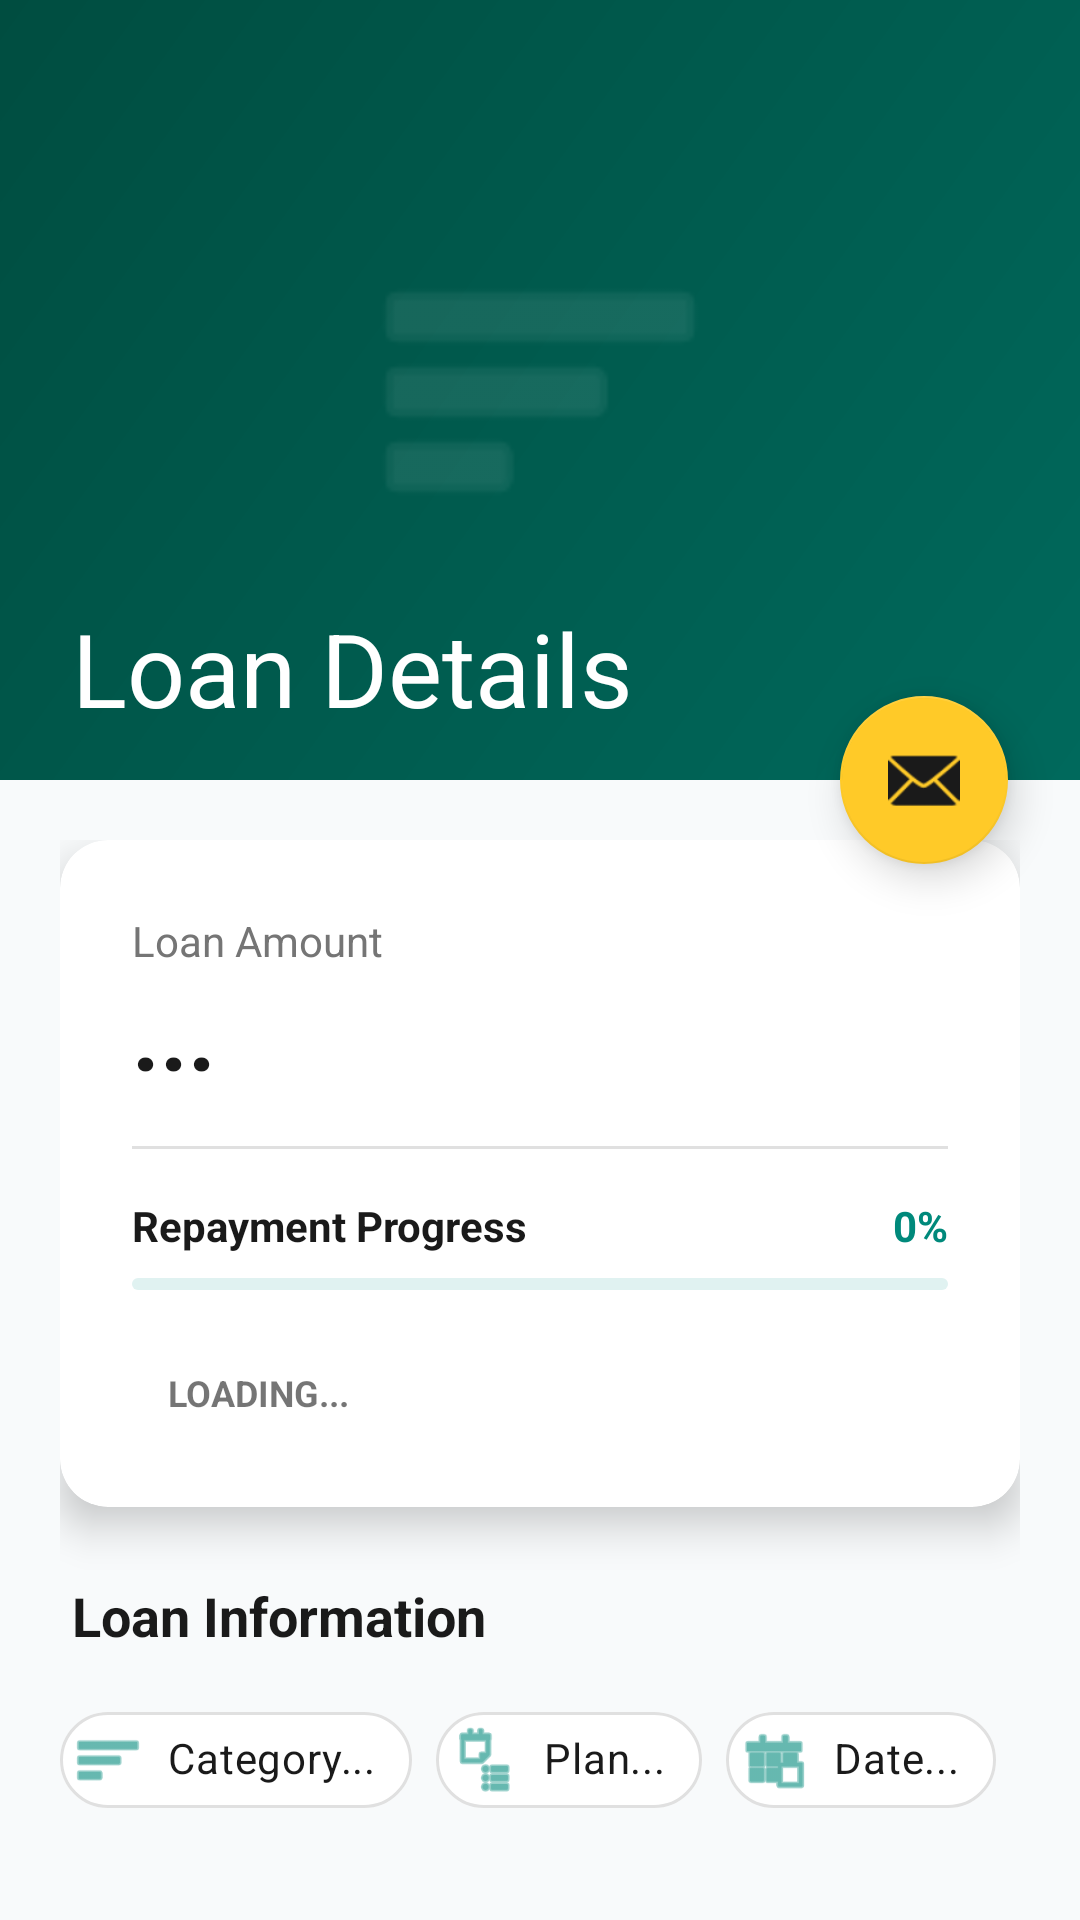

Screen size 1080 x 1920. Icon name, then its center in pixels as (x=x, y=y):
email: (x=924, y=780)
